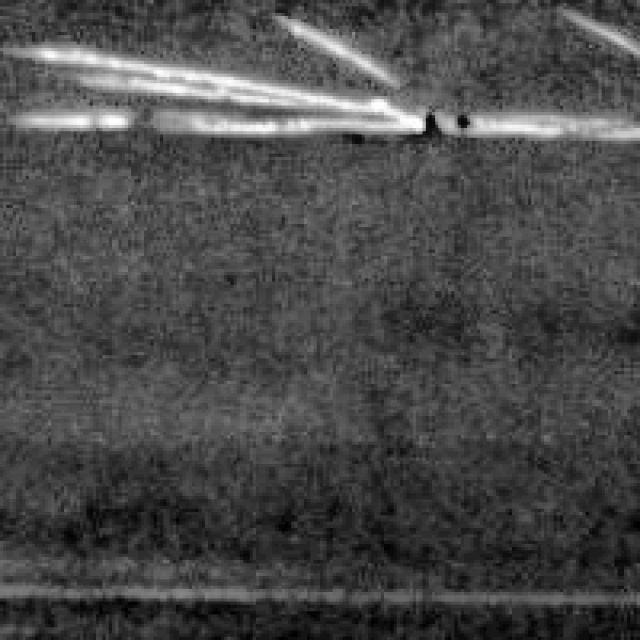Inclusion: (16, 19, 634, 138)
